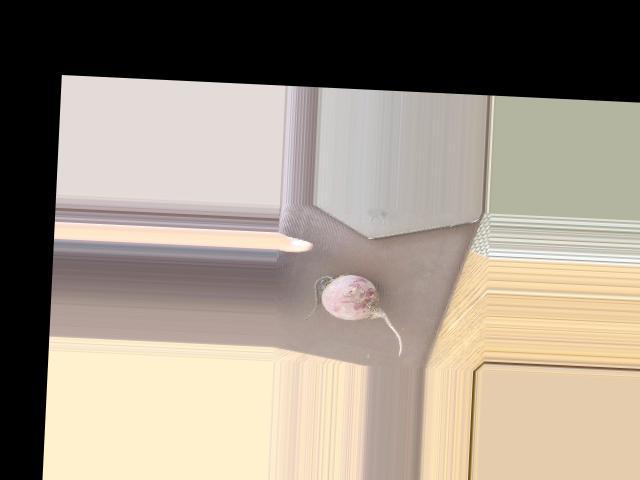beet: (304, 272, 406, 355)
